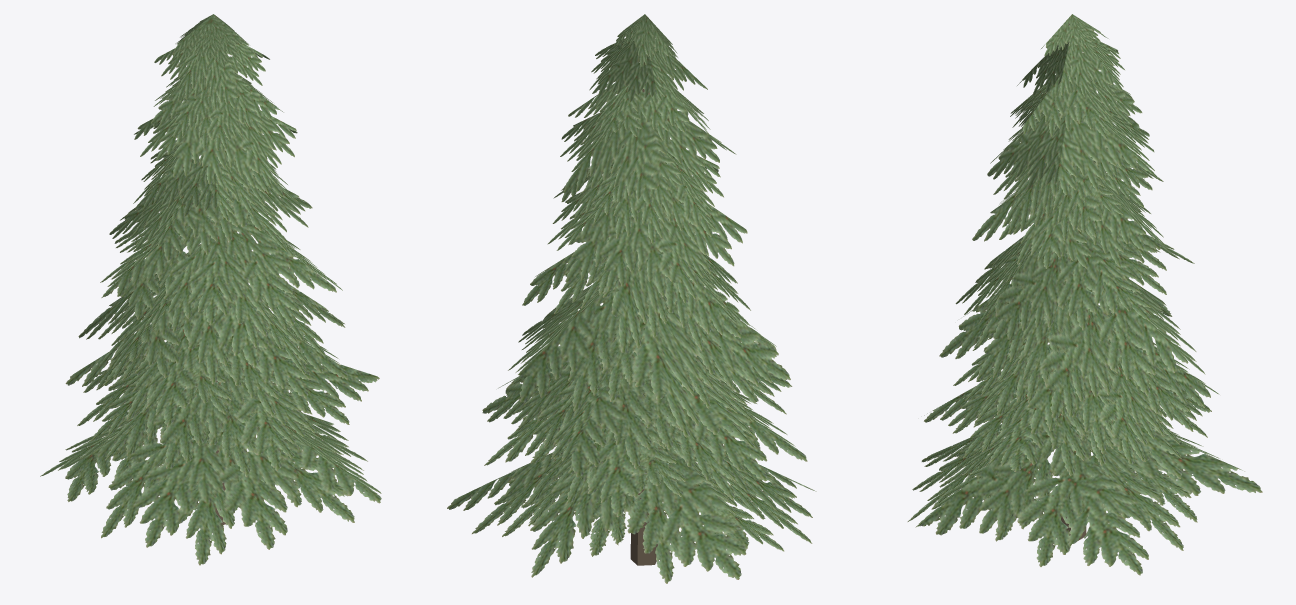
Rendered from 3DTrees.fbx.
3 views of the same model, side by side, from view 1: azimuth 30°, elevation 25°; view 2: azimuth 150°, elevation 25°; view 3: azimuth 270°, elevation 25° (orthographic). The views are drawn at different scales.
Parts seen in each view (by area): view 1: TreeLOD0; view 2: TreeLOD0; view 3: TreeLOD0.
Boxes of the visible parts, x1=… form: TreeLOD0: x1=40, y1=14, x2=381, y2=565; TreeLOD0: x1=447, y1=14, x2=816, y2=583; TreeLOD0: x1=907, y1=14, x2=1262, y2=575.
Bounding box in the file's own units: 1910 × 2758 × 1948.
1 material, 1 textured.
